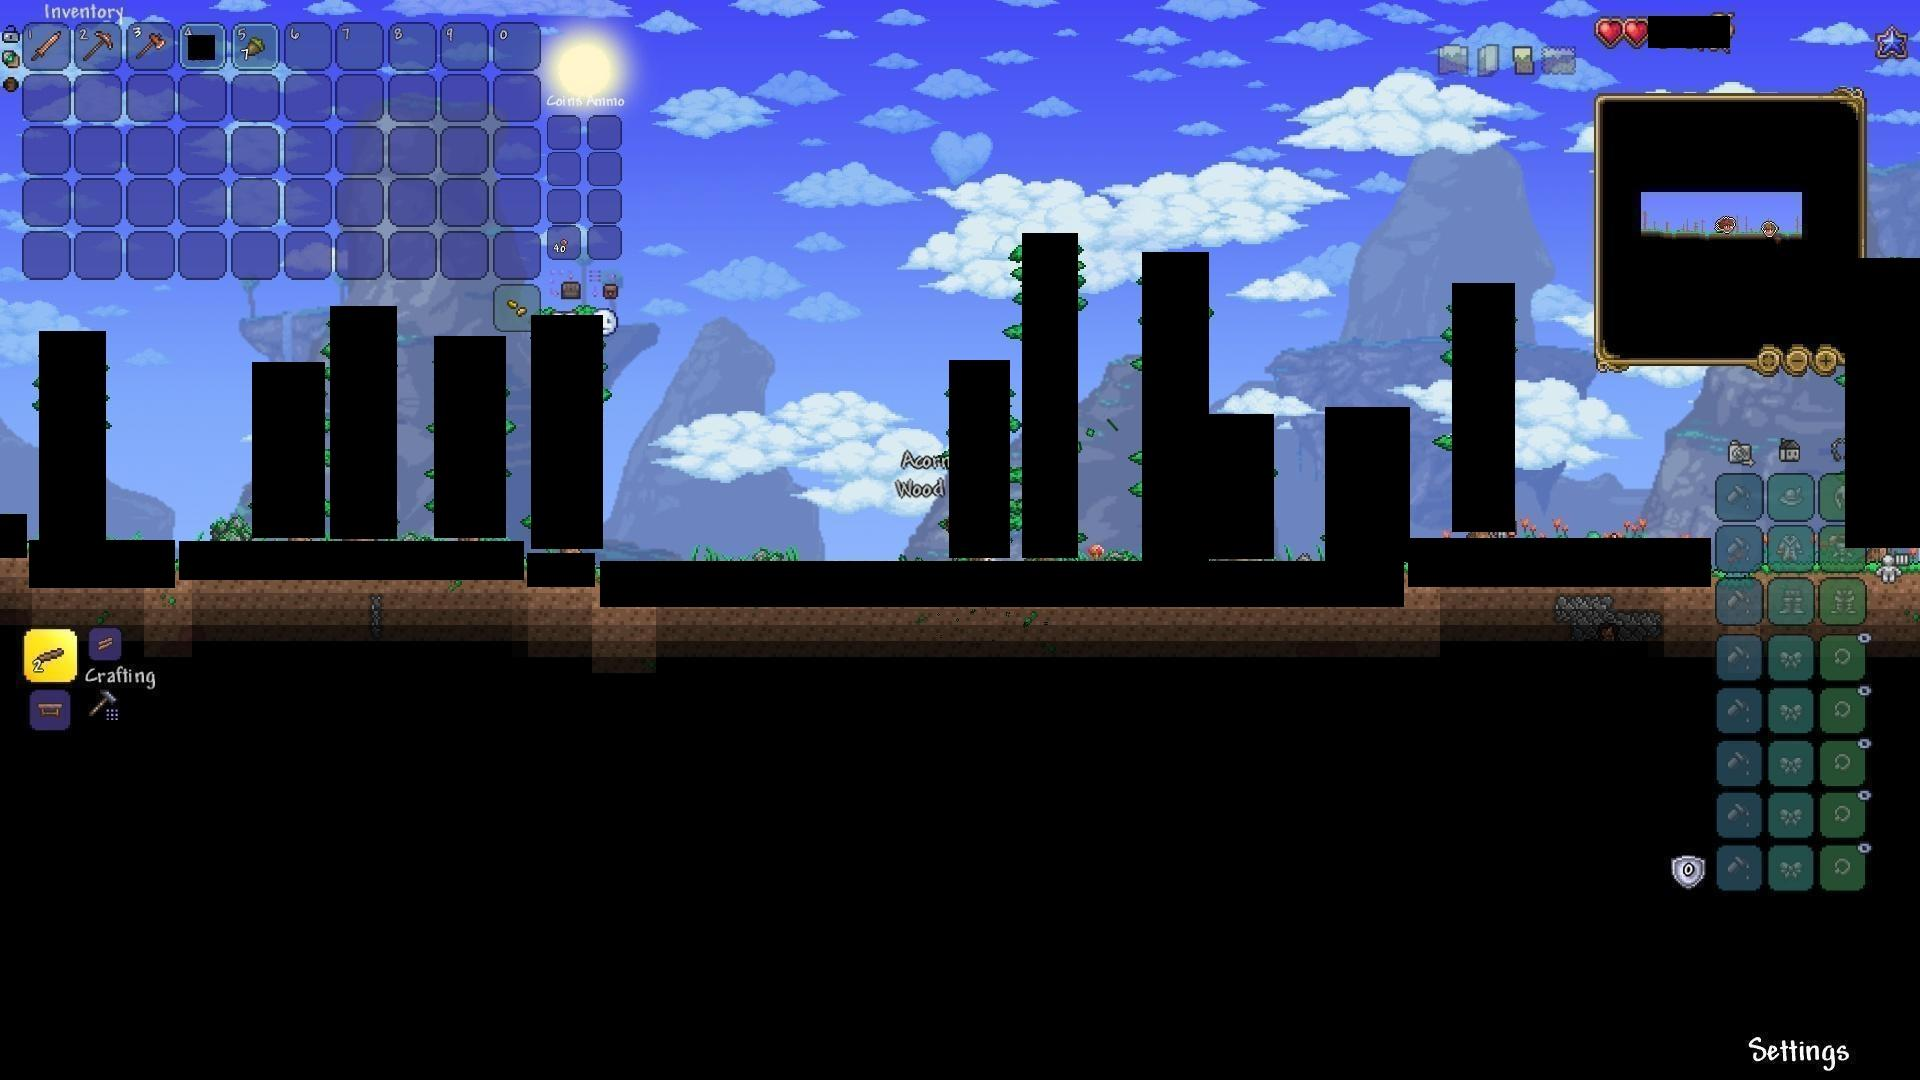heart: (1597, 16, 1626, 45), (1625, 17, 1651, 47)
wood: (92, 632, 119, 655)
workbench: (32, 700, 69, 725)
